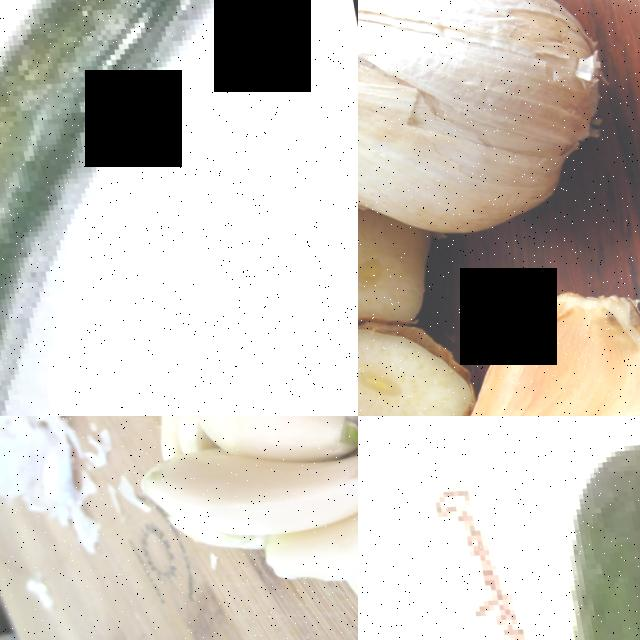cucumber: (0, 0, 358, 416), (527, 416, 640, 640)
garlic: (358, 0, 632, 265), (414, 252, 640, 416), (128, 420, 358, 552), (248, 477, 358, 589), (178, 416, 358, 467), (339, 559, 358, 619)
